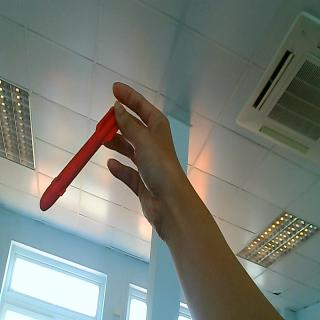Rocket: (39, 106, 119, 213)
